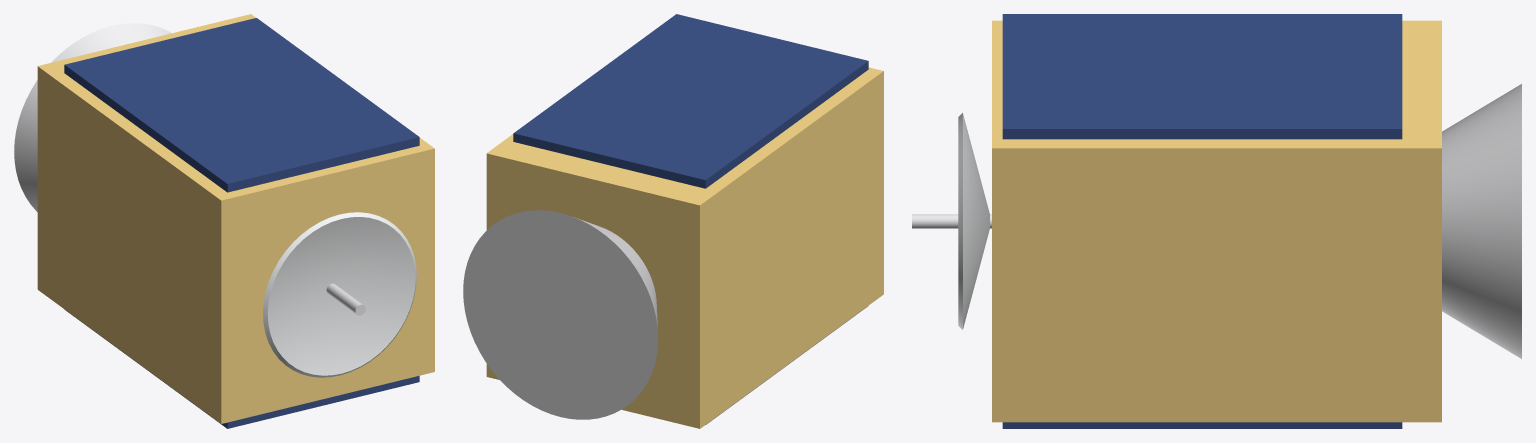
Rendered from payload.glb.
The picture shows the model from 3 angles, left to right: view 1: azimuth 30°, elevation 25°; view 2: azimuth 150°, elevation 25°; view 3: azimuth 270°, elevation 25°; orthographic projection. The views are drawn at different scales.
Parts seen in each view (by area): view 1: payload; view 2: payload; view 3: payload.
Part boxes in pixels (box(x1,y1,x2,y2)): payload: box(14, 14, 434, 428); payload: box(463, 14, 883, 428); payload: box(912, 14, 1521, 428).
Size of the model in its own units: 2.08 by 2.28 by 4.2.
